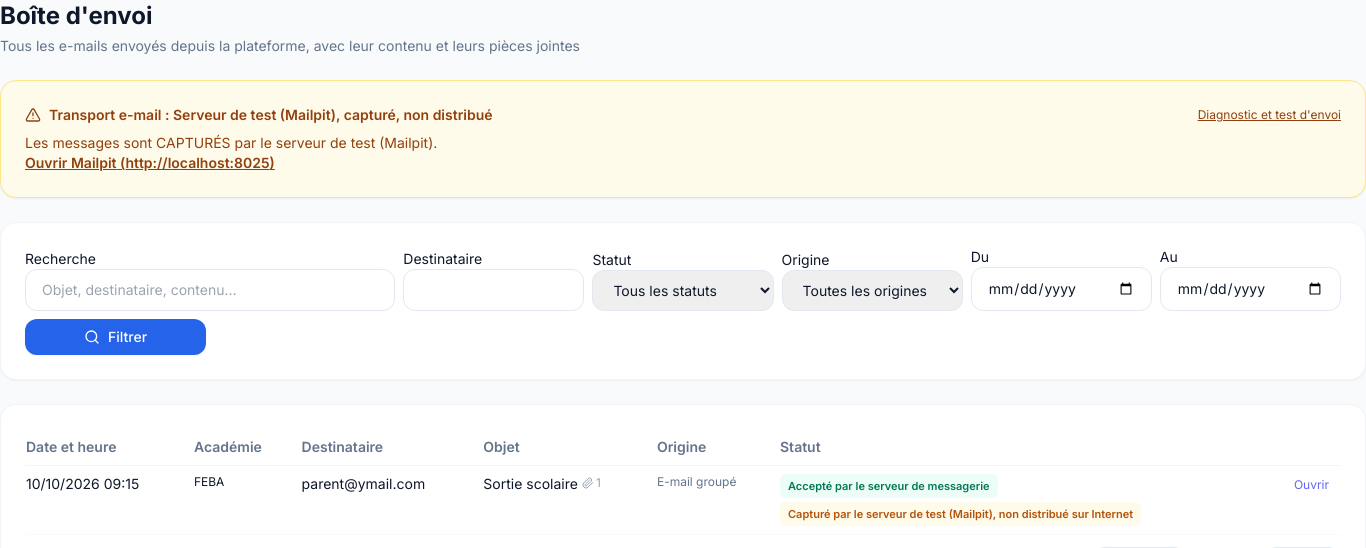
Test: Boîte d'envoi › message à lien de sécurité : pas de bouton de relance, explication affichée
The width and height of the screenshot is (1366, 548).
Click the text "Sortie scolaire" at [531, 484], box [482,466,656,534]
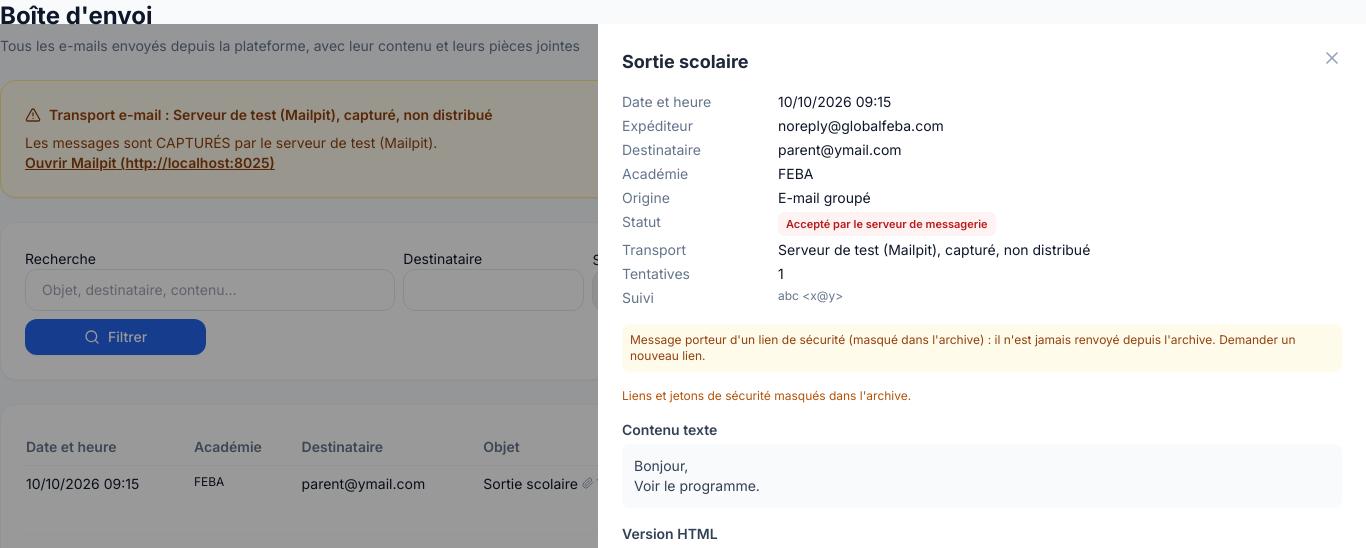
Expected: the text "Demander un nouveau lien" is shown, [630,332,1296,363]
